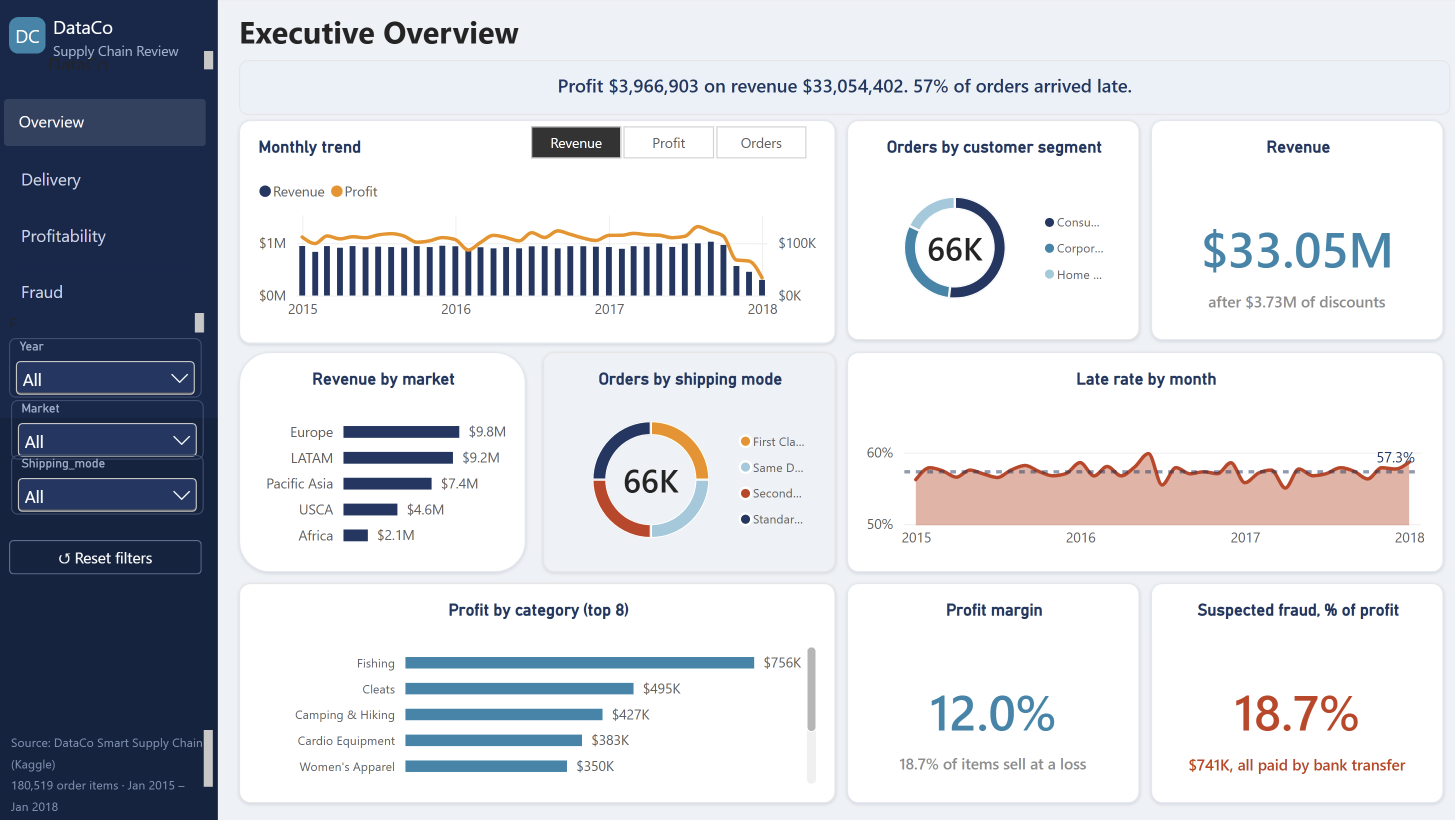

Layout of this report page (visuals, bound fields, positions):
{"tool":"powerbi","page":{"name":"Overview","canvas":[1920,1080],"ordinal":0},"visuals":[{"type":"group","id":"g1","title":"Side panel","box":[0,0,196,1080],"z":0},{"type":"shape","box":[0,0,196,720],"z":0,"group":"g1"},{"type":"shape","box":[0,368,196,360],"z":1000,"group":"g1"},{"type":"shape","box":[14,18,32,32],"z":2000,"group":"g1"},{"type":"textbox","box":[0,730,196,350],"z":3000,"group":"g1"},{"type":"textbox","box":[48,48,144,16],"z":4000,"group":"g1"},{"type":"textbox","box":[52,16,140,42],"z":5000,"group":"g1"},{"type":"pageNavigator","box":[10,90,176,190],"z":6000,"group":"g1"},{"type":"textbox","box":[14,276,170,24],"z":7000,"group":"g1"},{"type":"slicer","fields":{"Values":["Calendar.Year"]},"box":[14,298,168,52],"z":8000,"group":"g1"},{"type":"slicer","fields":{"Values":["Markets.market"]},"box":[16,352,168,52],"z":9000,"group":"g1"},{"type":"slicer","fields":{"Values":["orders.shipping_mode"]},"box":[16,400,168,52],"z":10000,"group":"g1"},{"type":"actionButton","box":[14,474,168,30],"z":11000,"group":"g1"},{"type":"textbox","box":[16,640,176,80],"z":12000,"group":"g1"}]}

Visuals, with their boxes on the page's 1920x1080 design canvas (x1, y1, x2, y2). These are canvas units, not pixel positions in the 1455x820 screenshot, which may show the page scaled, cropped or inside an application window:
"Side panel" group: pyautogui.locateOnScreen(0, 0, 196, 1080)
shape: pyautogui.locateOnScreen(0, 0, 196, 720)
shape: pyautogui.locateOnScreen(0, 368, 196, 728)
shape: pyautogui.locateOnScreen(14, 18, 46, 50)
textbox: pyautogui.locateOnScreen(0, 730, 196, 1080)
textbox: pyautogui.locateOnScreen(48, 48, 192, 64)
textbox: pyautogui.locateOnScreen(52, 16, 192, 58)
pageNavigator: pyautogui.locateOnScreen(10, 90, 186, 280)
textbox: pyautogui.locateOnScreen(14, 276, 184, 300)
slicer - Calendar.Year: pyautogui.locateOnScreen(14, 298, 182, 350)
slicer - Markets.market: pyautogui.locateOnScreen(16, 352, 184, 404)
slicer - orders.shipping_mode: pyautogui.locateOnScreen(16, 400, 184, 452)
actionButton: pyautogui.locateOnScreen(14, 474, 182, 504)
textbox: pyautogui.locateOnScreen(16, 640, 192, 720)
